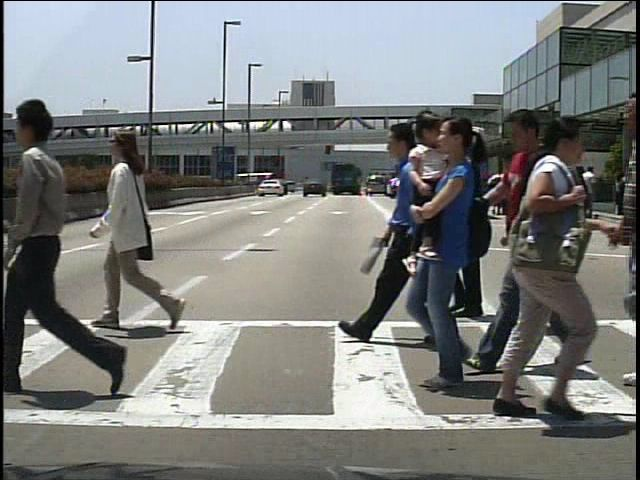person: (16, 79, 154, 403), (458, 111, 593, 427), (341, 118, 471, 347), (93, 121, 177, 341), (425, 130, 498, 322), (518, 140, 585, 335), (582, 168, 602, 218), (491, 163, 509, 216), (520, 103, 522, 377)
